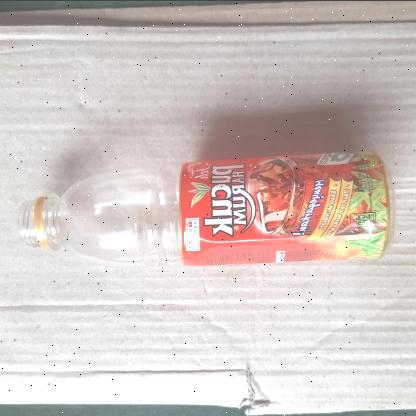Plastic Bottle: (18, 145, 396, 267)
